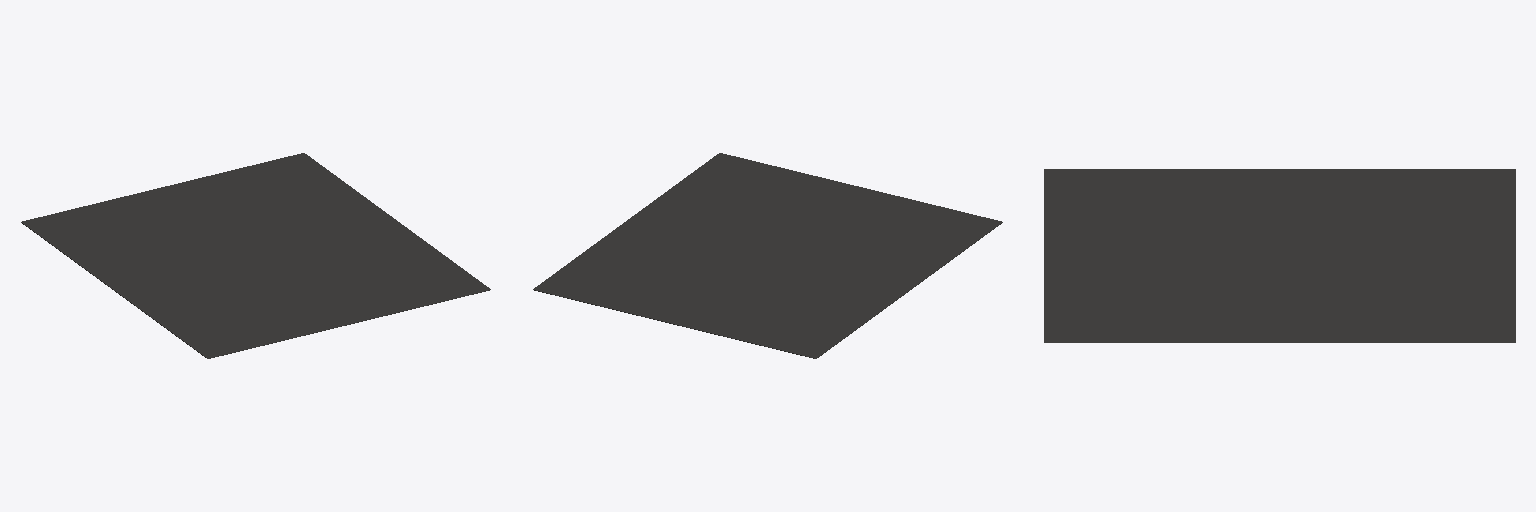
robot.urdf — arena:
<?xml version="1.0"?>
<!-- created with Phobos 1.0.1 "Capricious Choutengan" 7 6.5 0.1-->
  <robot name="arena">

    <link name="arena_base">
      <inertial>
      <contact>
        <lateral_friction value="1"/>
      </contact>
      <origin xyz="0 0 0" rpy="0 0 0"/>
      <mass value="0.01"/>
      <inertia ixx="0.001" ixy="0" ixz="0" iyy="0.001" iyz="0" izz="0.0027"/></inertial>
      <visual name="Cube">
        <origin xyz="0 0 0" rpy="0 0 0"/>
        <geometry>
          <box size="7 8 0.01"/>      
        </geometry>
        <material name="black"/>
      </visual>
      <collision>
        <origin rpy="0 0 0" xyz="0 0 0"/>
        <geometry>
          <box size="8 8 0.01"/>
        </geometry>
      </collision>
    </link>

    <material name="black">
      <color rgba="0.29 0.286 0.278 1.0"/>
    </material>

  </robot>

--- What the picture shows (computed from the rendered views, not written in the file) ---
The picture shows the robot from 3 angles, left to right: view 1: azimuth 30°, elevation 25°; view 2: azimuth 150°, elevation 25°; view 3: azimuth 270°, elevation 25°; orthographic projection.
Robot: arena — 1 links, 0 joints (none); root link arena_base; default pose: every joint at zero.
Visible links, largest first — view 1: arena_base; view 2: arena_base; view 3: arena_base.
Link boxes in pixels (x1=…): arena_base: x1=21, y1=153, x2=490, y2=358; arena_base: x1=533, y1=153, x2=1002, y2=358; arena_base: x1=1044, y1=169, x2=1515, y2=342.
Bounding box of the posed robot: 7 × 8 × 0.01 m (x, y, z).
Geometry: primitives only (box / cylinder / sphere), no mesh files.
